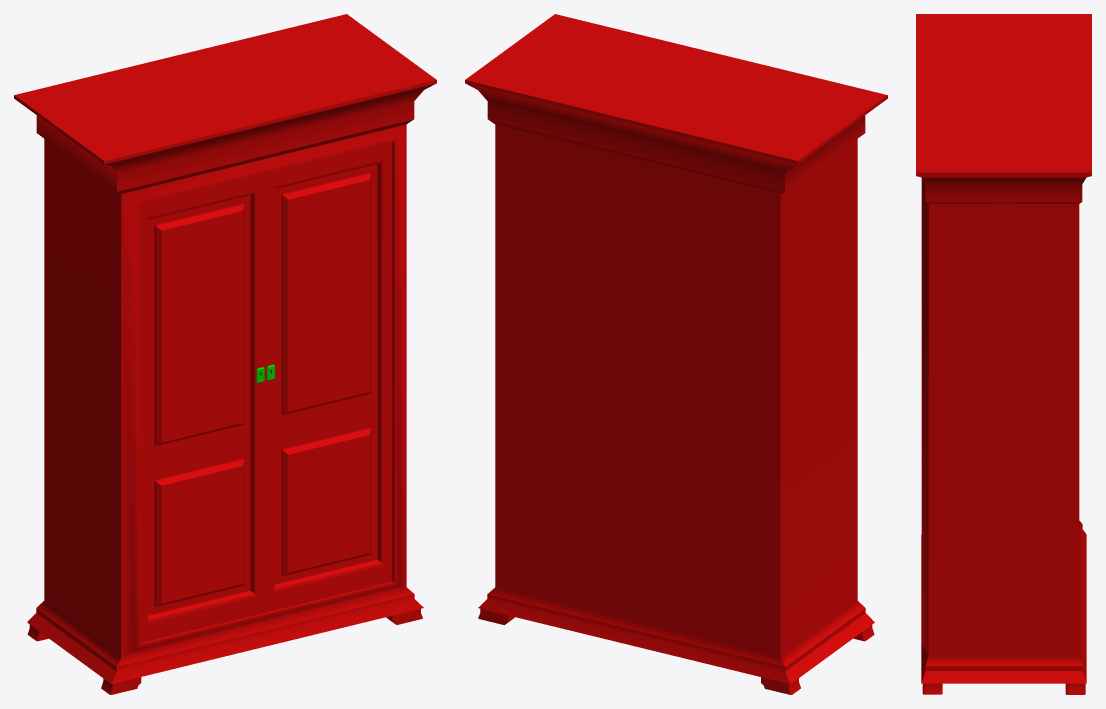
Rendered from Placard.fbx.
3 renders of one model, left to right at view 1: azimuth 30°, elevation 25°; view 2: azimuth 150°, elevation 25°; view 3: azimuth 270°, elevation 25°, orthographic. The views are drawn at different scales.
Visible parts, largest first — view 1: polySurface10, polySurface11, polySurface14; view 2: polySurface10; view 3: polySurface10.
Boxes of the visible parts, bbox=[...] form: polySurface10: bbox=[14, 14, 436, 694]; polySurface11: bbox=[265, 142, 392, 612]; polySurface14: bbox=[140, 173, 265, 642]; polySurface10: bbox=[465, 14, 887, 694]; polySurface10: bbox=[916, 14, 1091, 694].
Size of the model in its own units: 168 by 260 by 78.84.
